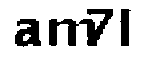7: (96, 7, 116, 44)
a: (12, 16, 45, 52)
l: (119, 5, 138, 56)
m: (46, 17, 95, 51)
